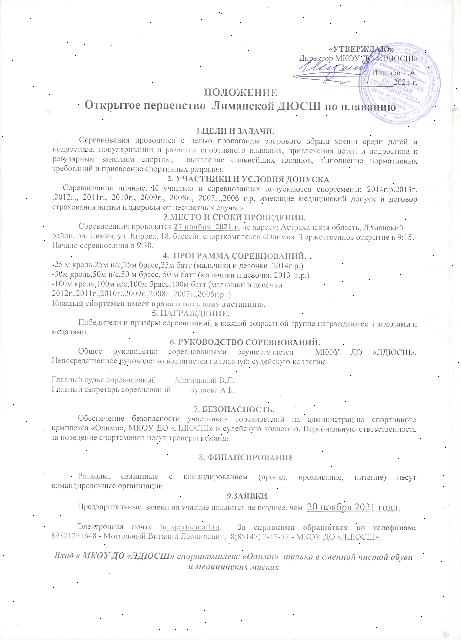stamp: (360, 44, 440, 124)
